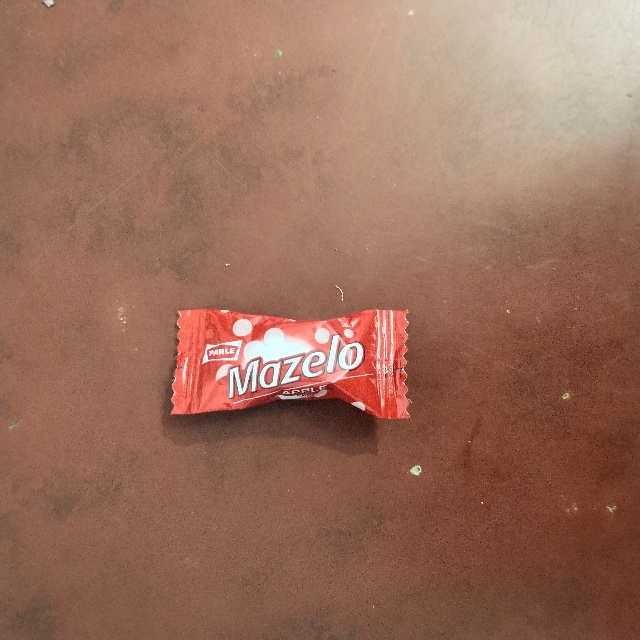Mazelo: (175, 307, 409, 419)
